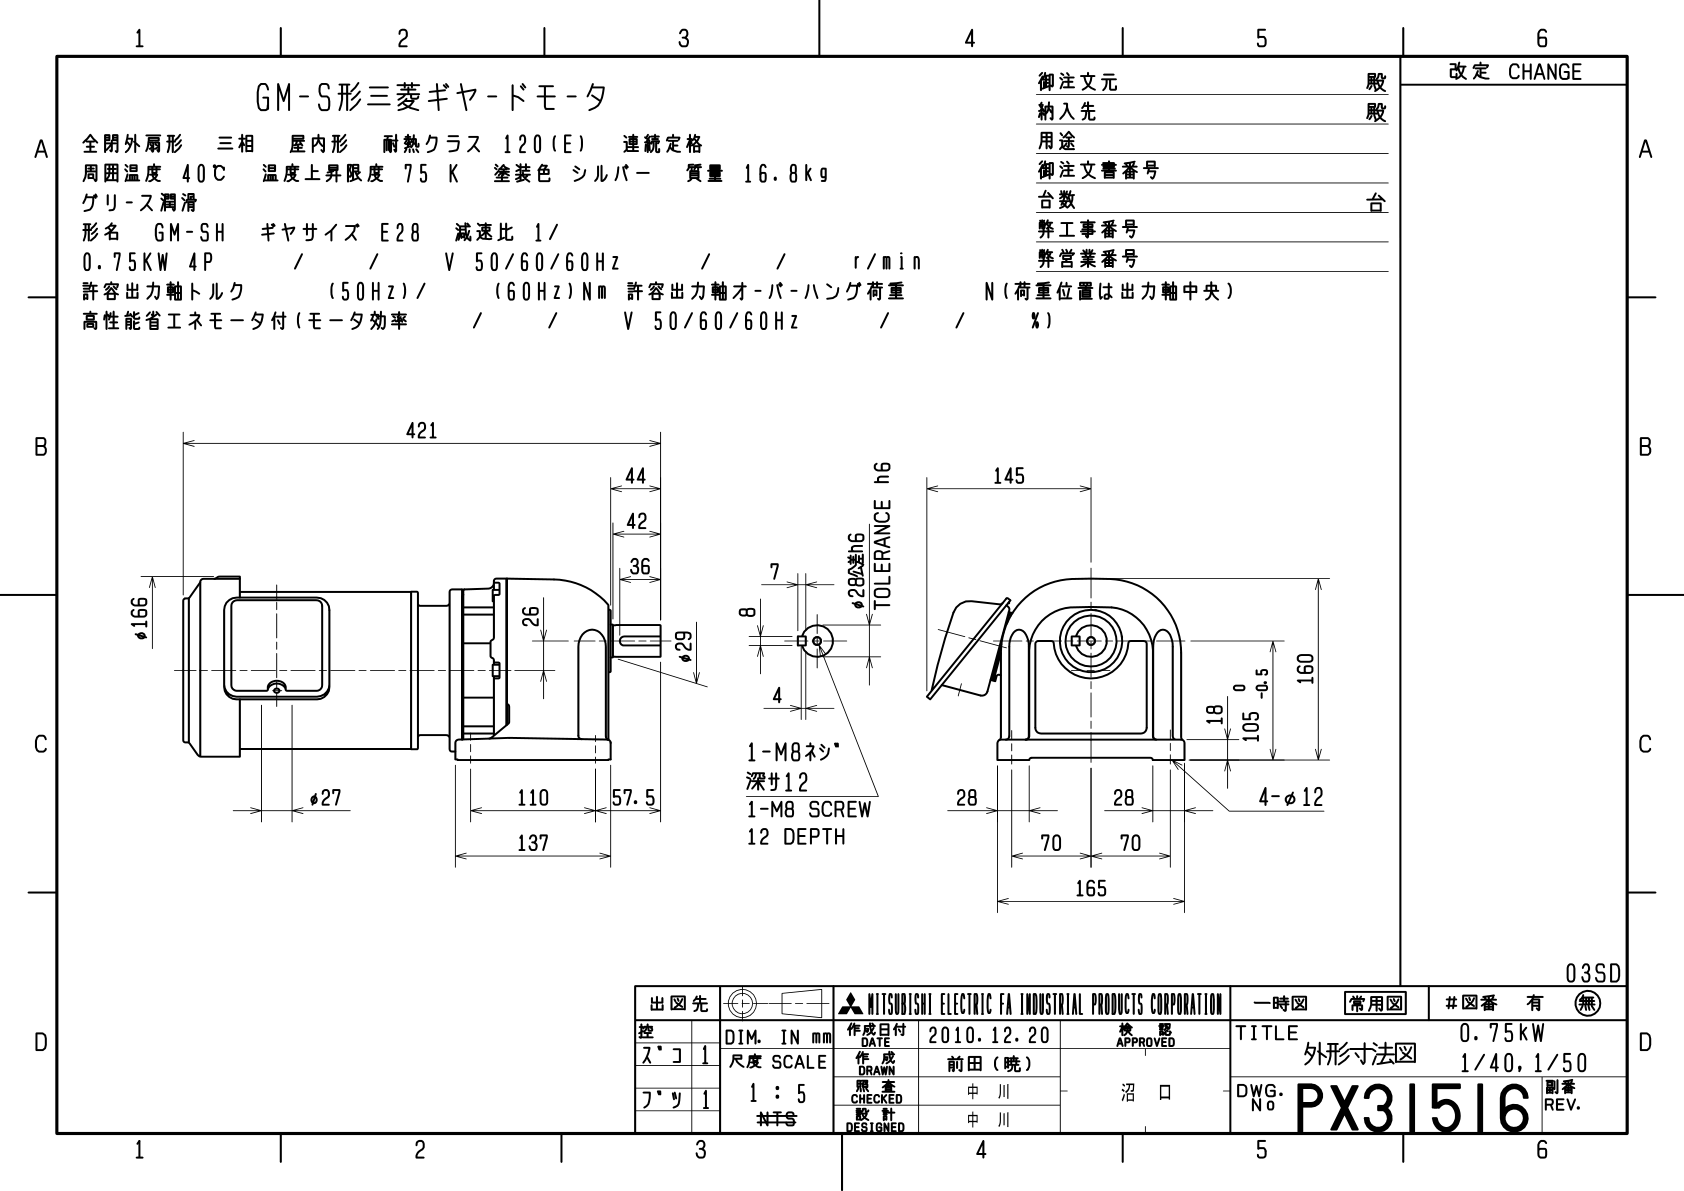GM_S_高効率屋内＿三相_脚: (104, 403, 1364, 924)
